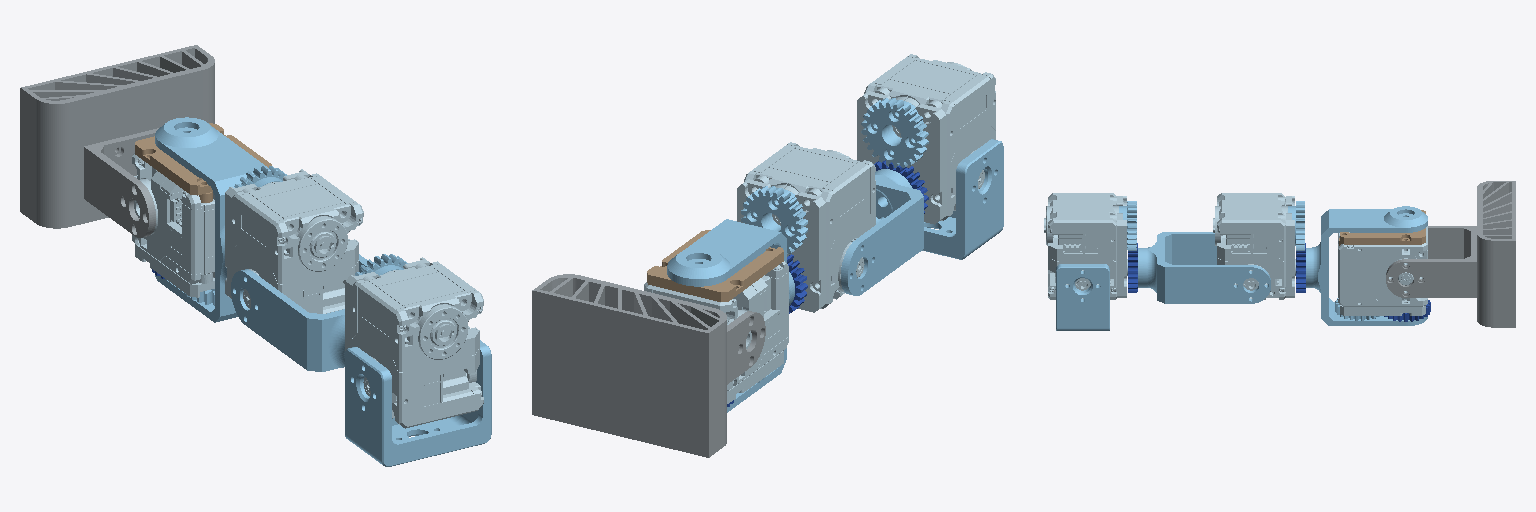
robot.urdf — right_arm_umi:
<?xml version="1.0" ?><robot name="right_arm_umi">  
  <link name="sho_pitch_link">    
    <visual>      
      <origin xyz="0 0 0" rpy="0 -0 0"/>      
      <geometry>        
        <mesh filename="package:///meshes/right_sho_pitch_link_visual.stl"/>        
      </geometry>      
      <material name="sho_pitch_link_material">        
        <color rgba="0.61568627450980395466 0.81176470588235294379 0.9294117647058824927 1.0"/>        
      </material>      
    </visual>    
    <collision>      
      <origin xyz="0 0 0" rpy="0 -0 0"/>      
      <geometry>        
        <mesh filename="package:///meshes/right_sho_pitch_link_collision.stl"/>        
      </geometry>      
    </collision>    
    <inertial>      
      <origin xyz="-6.4657779715960017825e-19 -2.2052288447398900024e-18 0.012913250798677600867" rpy="0 0 0"/>      
      <mass value="0.0085999999999999895972"/>      
      <inertia ixx="1.8365636406635799556e-06" ixy="2.7052466620977941747e-97" ixz="-6.0867229013657627499e-136" iyy="4.0110869076839109814e-06" iyz="-1.6935833339184735773e-44" izz="3.5160516450492455693e-06"/>      
    </inertial>    
  </link>  

  <link name="2xl430_gears">    
    <visual>      
      <origin xyz="0 0 0" rpy="0 -0 0"/>      
      <geometry>        
        <mesh filename="package:///meshes/right_2xl430_gears_visual.stl"/>        
      </geometry>      
      <material name="2xl430_gears_material">        
        <color rgba="0.75914767920569226067 0.85560384745670925444 0.90519468321360618823 1.0"/>        
      </material>      
    </visual>    
    <collision>      
      <origin xyz="0 0 0" rpy="0 -0 0"/>      
      <geometry>        
        <mesh filename="package:///meshes/right_2xl430_gears_collision.stl"/>        
      </geometry>      
    </collision>    
    <inertial>      
      <origin xyz="-0.01159290573797869435 -0.0024238553642522849517 -0.018551095523803726173" rpy="0 0 0"/>      
      <mass value="0.11800003674524907338"/>      
      <inertia ixx="2.7511021050424639241e-05" ixy="9.004390431513549981e-07" ixz="-2.3349710123960741496e-08" iyy="3.2796197843346213958e-05" iyz="-6.5715119654693364971e-07" izz="3.5775739835740998952e-05"/>      
    </inertial>    
  </link>  

  <link name="spur_1m_24t_drive">    
    <visual>      
      <origin xyz="0 0 0" rpy="0 -0 0"/>      
      <geometry>        
        <mesh filename="package:///meshes/right_spur_1m_24t_drive_visual.stl"/>        
      </geometry>      
      <material name="spur_1m_24t_drive_material">        
        <color rgba="0.61568627450980406568 0.81176470588235294379 0.92941176470588238168 1.0"/>        
      </material>      
    </visual>    
    <collision>      
      <origin xyz="0 0 0" rpy="0 -0 0"/>      
      <geometry>        
        <mesh filename="package:///meshes/right_spur_1m_24t_drive_collision.stl"/>        
      </geometry>      
    </collision>    
    <inertial>      
      <origin xyz="3.0329768727181610639e-15 -3.3891425476220191508e-16 0.0048096451474093039266" rpy="0 0 0"/>      
      <mass value="0.0032000000000000001533"/>      
      <inertia ixx="1.4097598887016958673e-07" ixy="1.5562823134806672036e-15" ixz="3.9554371954666049354e-37" iyy="1.4097598803635998845e-07" iyz="-1.3068306635892903836e-36" izz="2.4107776386988830202e-07"/>      
    </inertial>    
  </link>  

  <joint name="right_sho_yaw_drive" type="revolute">    
    <origin xyz="-0.024000000716138267243 -0.019000000152445337132 -0.019000000152448424939" rpy="1.5707963267949289765 -7.4062049324254792929e-14 1.9645226351351914911e-14"/>    
    <parent link="2xl430_gears"/>    
    <child link="spur_1m_24t_drive"/>    
    <axis xyz="0 0 1"/>    
    <limit effort="1" velocity="20" lower="-2.6179938779914944114" upper="2.6179938779914944114"/>    
    <joint_properties friction="0.0"/>    
  </joint>  

  <link name="spur_1m_24t_driven">    
    <visual>      
      <origin xyz="0 0 0" rpy="0 -0 0"/>      
      <geometry>        
        <mesh filename="package:///meshes/right_spur_1m_24t_driven_visual.stl"/>        
      </geometry>      
      <material name="spur_1m_24t_driven_material">        
        <color rgba="0.23137254901960788156 0.38039215686274502337 0.7058823529411765163 1.0"/>        
      </material>      
    </visual>    
    <collision>      
      <origin xyz="0 0 0" rpy="0 -0 0"/>      
      <geometry>        
        <mesh filename="package:///meshes/right_spur_1m_24t_driven_collision.stl"/>        
      </geometry>      
    </collision>    
    <inertial>      
      <origin xyz="-2.7696338792816901919e-18 -1.6888946739707558844e-15 -0.00097237500038396124102" rpy="0 0 0"/>      
      <mass value="0.0026999999999999997093"/>      
      <inertia ixx="1.2202334915684080498e-07" ixy="0" ixz="0" iyy="1.2202334915684067263e-07" iyz="-3.1611202962161965154e-37" izz="2.3180293204341257533e-07"/>      
    </inertial>    
  </link>  

  <link name="sho_yaw_link">    
    <visual>      
      <origin xyz="0 0 0" rpy="0 -0 0"/>      
      <geometry>        
        <mesh filename="package:///meshes/right_sho_yaw_link_visual.stl"/>        
      </geometry>      
      <material name="sho_yaw_link_material">        
        <color rgba="0.61568627450980384364 0.81176470588235294379 0.92941176470588238168 1.0"/>        
      </material>      
    </visual>    
    <collision>      
      <origin xyz="0 0 0" rpy="0 -0 0"/>      
      <geometry>        
        <mesh filename="package:///meshes/right_sho_yaw_link_collision.stl"/>        
      </geometry>      
    </collision>    
    <inertial>      
      <origin xyz="-1.1660583139255996671e-18 3.5695430205025619071e-18 -0.024649285094360089132" rpy="0 0 0"/>      
      <mass value="0.01450000000000000247"/>      
      <inertia ixx="9.2365904614004439553e-06" ixy="3.5862833440698297613e-13" ixz="3.9137616104661151467e-44" iyy="5.8163826335078774773e-06" iyz="-5.7710285861749289932e-36" izz="4.5074356741562122031e-06"/>      
    </inertial>    
  </link>  

  <link name="2xl430_gears_2">    
    <visual>      
      <origin xyz="0 0 0" rpy="0 -0 0"/>      
      <geometry>        
        <mesh filename="package:///meshes/right_2xl430_gears_2_visual.stl"/>        
      </geometry>      
      <material name="2xl430_gears_2_material">        
        <color rgba="0.75914767920569226067 0.85560384745670925444 0.90519468321360618823 1.0"/>        
      </material>      
    </visual>    
    <collision>      
      <origin xyz="0 0 0" rpy="0 -0 0"/>      
      <geometry>        
        <mesh filename="package:///meshes/right_2xl430_gears_2_collision.stl"/>        
      </geometry>      
    </collision>    
    <inertial>      
      <origin xyz="-0.011592905737984599349 -0.002423855364252071147 -0.018551095523805887638" rpy="0 0 0"/>      
      <mass value="0.11800003674524907338"/>      
      <inertia ixx="2.751102105042605548e-05" ixy="9.0043904315050627108e-07" ixz="-2.3349710123665758963e-08" iyy="3.2796197843347230398e-05" iyz="-6.5715119654724556959e-07" izz="3.5775739835742266114e-05"/>      
    </inertial>    
  </link>  

  <link name="spur_1m_24t_drive_2">    
    <visual>      
      <origin xyz="0 0 0" rpy="0 -0 0"/>      
      <geometry>        
        <mesh filename="package:///meshes/right_spur_1m_24t_drive_2_visual.stl"/>        
      </geometry>      
      <material name="spur_1m_24t_drive_2_material">        
        <color rgba="0.61568627450980406568 0.81176470588235294379 0.92941176470588238168 1.0"/>        
      </material>      
    </visual>    
    <collision>      
      <origin xyz="0 0 0" rpy="0 -0 0"/>      
      <geometry>        
        <mesh filename="package:///meshes/right_spur_1m_24t_drive_2_collision.stl"/>        
      </geometry>      
    </collision>    
    <inertial>      
      <origin xyz="3.02603797881425423e-15 -3.3891425476220191508e-16 0.0048096451474092995898" rpy="0 0 0"/>      
      <mass value="0.0032000000000000001533"/>      
      <inertia ixx="1.4097598887016958673e-07" ixy="1.5562823081573231774e-15" ixz="1.1756804446533630512e-37" iyy="1.4097598803635996198e-07" iyz="2.3035732543170599666e-36" izz="2.4107776386988830202e-07"/>      
    </inertial>    
  </link>  

  <joint name="right_elbow_yaw_drive" type="revolute">    
    <origin xyz="-0.024000000716147162905 -0.019000000152450874369 -0.019000000152450294971" rpy="1.5707963267949573982 3.0456550330441217593e-14 -3.9968028886506279166e-14"/>    
    <parent link="2xl430_gears_2"/>    
    <child link="spur_1m_24t_drive_2"/>    
    <axis xyz="0 0 1"/>    
    <limit effort="1" velocity="20" lower="-2.6179938779914944114" upper="2.6179938779914944114"/>    
    <joint_properties friction="0.0"/>    
  </joint>  

  <link name="spur_1m_24t_driven_2">    
    <visual>      
      <origin xyz="0 0 0" rpy="0 -0 0"/>      
      <geometry>        
        <mesh filename="package:///meshes/right_spur_1m_24t_driven_2_visual.stl"/>        
      </geometry>      
      <material name="spur_1m_24t_driven_2_material">        
        <color rgba="0.23137254901960788156 0.38039215686274502337 0.7058823529411765163 1.0"/>        
      </material>      
    </visual>    
    <collision>      
      <origin xyz="0 0 0" rpy="0 -0 0"/>      
      <geometry>        
        <mesh filename="package:///meshes/right_spur_1m_24t_driven_2_collision.stl"/>        
      </geometry>      
    </collision>    
    <inertial>      
      <origin xyz="6.998130726719240932e-19 -1.6888946739707574622e-15 -0.00097237500038395430213" rpy="0 0 0"/>      
      <mass value="0.0026999999999999997093"/>      
      <inertia ixx="1.2202334915684080498e-07" ixy="3.8503779869585968261e-37" ixz="-5.0252529353177581452e-67" iyy="1.2202334915684067263e-07" iyz="-1.5292377512497487578e-36" izz="2.3180293204341257533e-07"/>      
    </inertial>    
  </link>  

  <link name="elb_yaw_link">    
    <visual>      
      <origin xyz="0 0 0" rpy="0 -0 0"/>      
      <geometry>        
        <mesh filename="package:///meshes/right_elb_yaw_link_visual.stl"/>        
      </geometry>      
      <material name="elb_yaw_link_material">        
        <color rgba="0.61568627450980395466 0.81176470588235294379 0.92941176470588227065 1.0"/>        
      </material>      
    </visual>    
    <collision>      
      <origin xyz="0 0 0" rpy="0 -0 0"/>      
      <geometry>        
        <mesh filename="package:///meshes/right_elb_yaw_link_collision.stl"/>        
      </geometry>      
    </collision>    
    <inertial>      
      <origin xyz="5.3127688027629623281e-08 0.0019833638641961626875 -0.023416643551549952418" rpy="0 0 0"/>      
      <mass value="0.017500000000000001665"/>      
      <inertia ixx="1.4134344903109199776e-05" ixy="1.6945783921985164522e-12" ixz="-1.1286398721840438372e-11" iyy="6.6435900776211340404e-06" iyz="1.0545227077253059697e-06" izz="8.9925290757999010654e-06"/>      
    </inertial>    
  </link>  

  <link name="spur_1m_24t_driven_3">    
    <visual>      
      <origin xyz="0 0 0" rpy="0 -0 0"/>      
      <geometry>        
        <mesh filename="package:///meshes/right_spur_1m_24t_driven_3_visual.stl"/>        
      </geometry>      
      <material name="spur_1m_24t_driven_3_material">        
        <color rgba="0.23137254901960788156 0.38039215686274502337 0.7058823529411765163 1.0"/>        
      </material>      
    </visual>    
    <collision>      
      <origin xyz="0 0 0" rpy="0 -0 0"/>      
      <geometry>        
        <mesh filename="package:///meshes/right_spur_1m_24t_driven_3_collision.stl"/>        
      </geometry>      
    </collision>    
    <inertial>      
      <origin xyz="2.4985941736347222548e-17 -1.6888946739707539123e-15 -0.0025723750003839584988" rpy="0 0 0"/>      
      <mass value="0.0026999999999999997093"/>      
      <inertia ixx="1.2202334915684080498e-07" ixy="1.2024235126300533086e-36" ixz="-1.9251889934793005011e-37" iyy="1.2202334915684067263e-07" iyz="-6.5691309546560350094e-67" izz="2.3180293204341257533e-07"/>      
    </inertial>    
  </link>  

  <link name="2xl430_gears_3">    
    <visual>      
      <origin xyz="0 0 0" rpy="0 -0 0"/>      
      <geometry>        
        <mesh filename="package:///meshes/right_2xl430_gears_3_visual.stl"/>        
      </geometry>      
      <material name="2xl430_gears_3_material">        
        <color rgba="0.75914767920569226067 0.85560384745670925444 0.90519468321360618823 1.0"/>        
      </material>      
    </visual>    
    <collision>      
      <origin xyz="0 0 0" rpy="0 -0 0"/>      
      <geometry>        
        <mesh filename="package:///meshes/right_2xl430_gears_3_collision.stl"/>        
      </geometry>      
    </collision>    
    <inertial>      
      <origin xyz="0.00044890447620015046237 0.011592905379911784894 -0.024576144788197196167" rpy="0 0 0"/>      
      <mass value="0.11800003674524907338"/>      
      <inertia ixx="3.5775739835742767557e-05" ixy="2.3349710123599005488e-08" ixz="6.5715119654677451339e-07" iyy="2.7511021050425879297e-05" iyz="9.0043904315183399523e-07" izz="3.2796197843346695073e-05"/>      
    </inertial>    
  </link>  

  <link name="spur_1m_24t_drive_3">    
    <visual>      
      <origin xyz="0 0 0" rpy="0 -0 0"/>      
      <geometry>        
        <mesh filename="package:///meshes/right_spur_1m_24t_drive_3_visual.stl"/>        
      </geometry>      
      <material name="spur_1m_24t_drive_3_material">        
        <color rgba="0.61568627450980406568 0.81176470588235294379 0.92941176470588238168 1.0"/>        
      </material>      
    </visual>    
    <collision>      
      <origin xyz="0 0 0" rpy="0 -0 0"/>      
      <geometry>        
        <mesh filename="package:///meshes/right_spur_1m_24t_drive_3_collision.stl"/>        
      </geometry>      
    </collision>    
    <inertial>      
      <origin xyz="3.0329768727181610639e-15 -3.3891425478805135853e-16 0.0048096451474093039266" rpy="0 0 0"/>      
      <mass value="0.0032000000000000001533"/>      
      <inertia ixx="1.409759888701696132e-07" ixy="1.5562823155235952782e-15" ixz="5.3447756147290179682e-37" iyy="1.4097598803636004139e-07" iyz="-7.82962044161536043e-37" izz="2.4107776386988830202e-07"/>      
    </inertial>    
  </link>  

  <joint name="right_wrist_pitch_drive" type="revolute">    
    <origin xyz="-1.5244312511681577095e-10 0.024000000358071760242 -0.0080000000000008727324" rpy="1.2483159056318501391e-14 7.3485321852726251993e-14 -1.5707963267948599206"/>    
    <parent link="2xl430_gears_3"/>    
    <child link="spur_1m_24t_drive_3"/>    
    <axis xyz="0 0 1"/>    
    <limit effort="1" velocity="20" lower="-1.3962634015954635824" upper="1.9198621771937625091"/>    
    <joint_properties friction="0.0"/>    
  </joint>  

  <link name="hand">    
    <visual>      
      <origin xyz="0 0 0" rpy="0 -0 0"/>      
      <geometry>        
        <mesh filename="package:///meshes/right_hand_visual.stl"/>        
      </geometry>      
      <material name="hand_material">        
        <color rgba="0.64149913129808899814 0.67624720774385715938 0.69709605361131798951 1.0"/>        
      </material>      
    </visual>    
    <collision>      
      <origin xyz="0 0 0" rpy="0 -0 0"/>      
      <geometry>        
        <mesh filename="package:///meshes/right_hand_collision.stl"/>        
      </geometry>      
    </collision>    
    <inertial>      
      <origin xyz="0.0037078693754091780581 -0.042127339671143418376 -0.019509671728381139388" rpy="0 0 0"/>      
      <mass value="0.039499999999999979572"/>      
      <inertia ixx="2.463550204721900056e-05" ixy="6.2323015740443222902e-07" ixz="1.4391447736752212052e-08" iyy="2.54752072219337203e-05" iyz="-4.0870433587618370763e-08" izz="1.3466679249845188709e-05"/>      
    </inertial>    
  </link>  

  <joint name="right_wrist_roll" type="revolute">    
    <origin xyz="0.019000000000002754269 -3.5806785314562716849e-10 -0.02700000015244990656" rpy="-1.9648186021258132771e-29 1.570796326794851927 0"/>    
    <parent link="2xl430_gears_3"/>    
    <child link="hand"/>    
    <axis xyz="0 0 1"/>    
    <limit effort="1" velocity="20" lower="-1.3962634015954635824" upper="1.9198621771937625091"/>    
    <joint_properties friction="0.0"/>    
  </joint>  

  <link name="wrist_bearing_plate">    
    <visual>      
      <origin xyz="0 0 0" rpy="0 -0 0"/>      
      <geometry>        
        <mesh filename="package:///meshes/right_wrist_bearing_plate_visual.stl"/>        
      </geometry>      
      <material name="wrist_bearing_plate_material">        
        <color rgba="0.71932243125689054875 0.63128434304969727187 0.52422389360984933404 1.0"/>        
      </material>      
    </visual>    
    <collision>      
      <origin xyz="0 0 0" rpy="0 -0 0"/>      
      <geometry>        
        <mesh filename="package:///meshes/right_wrist_bearing_plate_collision.stl"/>        
      </geometry>      
    </collision>    
    <inertial>      
      <origin xyz="-0.007583558312149987074 -0.015499999999999977338 -0.0018386323705903283732" rpy="0 0 0"/>      
      <mass value="0.0049000367468305557062"/>      
      <inertia ixx="4.9707430109150118544e-07" ixy="8.4884857117213009255e-23" ixz="1.8100904820814061718e-08" iyy="7.1268523603538563647e-07" iyz="4.7142878042649513411e-24" izz="1.1919657811600109234e-06"/>      
    </inertial>    
  </link>  

  <joint name="right_wrist_pitch_fixed" type="fixed">    
    <origin xyz="0.015500000000003963732 4.5519144009631418157e-15 -0.04500000000000373146" rpy="-3.0531133177156822825e-15 1.2051470932306205513e-13 -1.570796326794896558"/>    
    <parent link="2xl430_gears_3"/>    
    <child link="wrist_bearing_plate"/>    
    <axis xyz="0 0 1"/>    
    <limit effort="1" velocity="20"/>    
    <joint_properties friction="0.0"/>    
  </joint>  

  <joint name="right_wrist_pitch_driven" type="revolute">    
    <origin xyz="2.7755575615628913511e-17 3.1554436208840472216e-30 -0.0015999999999999972577" rpy="-3.8285686988021856593e-16 -1.2621774483536197294e-29 1.570796326794896558"/>    
    <parent link="spur_1m_24t_driven_3"/>    
    <child link="2xl430_gears_3"/>    
    <axis xyz="0 0 1"/>    
    <limit effort="1" velocity="20" lower="-1.9198621771937625091" upper="1.3962634015954635824"/>    
    <joint_properties friction="0.0"/>    
  </joint>  

  <joint name="right_wrist_roll_fixed" type="fixed">    
    <origin xyz="3.1554436208840472216e-30 -0.025299999999999999573 -0.051999999999999976796" rpy="1.570796326794896558 1.570796326794896558 0"/>    
    <parent link="elb_yaw_link"/>    
    <child link="spur_1m_24t_driven_3"/>    
    <axis xyz="0 0 1"/>    
    <limit effort="1" velocity="20"/>    
    <joint_properties friction="0.0"/>    
  </joint>  

  <joint name="right_elbow_yaw_fixed" type="fixed">    
    <origin xyz="3.4694469519536141888e-18 0 0.0016000000000000180744" rpy="3.141592653589793116 5.5511151240344703462e-17 -1.57079632679489678"/>    
    <parent link="spur_1m_24t_driven_2"/>    
    <child link="elb_yaw_link"/>    
    <axis xyz="0 0 1"/>    
    <limit effort="1" velocity="20"/>    
    <joint_properties friction="0.0"/>    
  </joint>  

  <joint name="right_elbow_yaw_driven" type="revolute">    
    <origin xyz="-3.5807115952857238028e-10 -0.027000000152453032531 -0.01900000000000281325" rpy="1.5707963267949576203 3.0519690799675378401e-14 -4.0239863453830675462e-14"/>    
    <parent link="2xl430_gears_2"/>    
    <child link="spur_1m_24t_driven_2"/>    
    <axis xyz="0 0 1"/>    
    <limit effort="1" velocity="20" lower="-2.6179938779914944114" upper="2.6179938779914944114"/>    
    <joint_properties friction="0.0"/>    
  </joint>  

  <joint name="right_elbow_roll" type="revolute">    
    <origin xyz="0 -0.018999999999999999528 -0.059000000000000024647" rpy="1.5707963267948952257 -4.3465231414242792334e-14 -2.6978419498660684154e-14"/>    
    <parent link="sho_yaw_link"/>    
    <child link="2xl430_gears_2"/>    
    <axis xyz="0 0 1"/>    
    <limit effort="1" velocity="20" lower="-1.9198621771937625091" upper="2.4434609527920612138"/>    
    <joint_properties friction="0.0"/>    
  </joint>  

  <joint name="right_sho_yaw_fixed" type="fixed">    
    <origin xyz="0 3.9443045261050590271e-31 0.0015999999999999972577" rpy="3.141592653589793116 -5.0487097934144755546e-29 -1.8301573001127473886e-28"/>    
    <parent link="spur_1m_24t_driven"/>    
    <child link="sho_yaw_link"/>    
    <axis xyz="0 0 1"/>    
    <limit effort="1" velocity="20"/>    
    <joint_properties friction="0.0"/>    
  </joint>  

  <joint name="right_sho_yaw_driven" type="revolute">    
    <origin xyz="-3.5806816886529979627e-10 -0.027000000152446666096 -0.019000000000003354483" rpy="1.5707963267949260899 -2.2055090607973039157e-14 7.6050277186033683693e-15"/>    
    <parent link="2xl430_gears"/>    
    <child link="spur_1m_24t_driven"/>    
    <axis xyz="0 0 1"/>    
    <limit effort="1" velocity="20" lower="-2.6179938779914944114" upper="2.6179938779914944114"/>    
    <joint_properties friction="0.0"/>    
  </joint>  

  <joint name="right_sho_roll" type="revolute">    
    <origin xyz="-0.018999999999999999528 9.3241386833306442318e-18 0.027000000000000006634" rpy="3.141592653589793116 1.5707963267948952257 0"/>    
    <parent link="sho_pitch_link"/>    
    <child link="2xl430_gears"/>    
    <axis xyz="0 0 1"/>    
    <limit effort="1" velocity="20" lower="-1.570796326794896558" upper="0.34906585039886589561"/>    
    <joint_properties friction="0.0"/>    
  </joint>  


</robot>

--- What the picture shows (computed from the rendered views, not written in the file) ---
Views: 3 orthographic renders of the robot side by side, from view 1: azimuth 30°, elevation 25°; view 2: azimuth 150°, elevation 25°; view 3: azimuth 270°, elevation 25°.
Robot: right_arm_umi — 14 links, 13 joints (9 revolute, 4 fixed); root link sho_pitch_link; default pose: every joint at zero.
Visible links, largest first — view 1: hand, 2xl430_gears, 2xl430_gears_2, sho_pitch_link, 2xl430_gears_3, elb_yaw_link, sho_yaw_link, wrist_bearing_plate, spur_1m_24t_drive, spur_1m_24t_drive_2; view 2: hand, 2xl430_gears_2, 2xl430_gears, sho_yaw_link, sho_pitch_link, elb_yaw_link, 2xl430_gears_3, spur_1m_24t_drive, wrist_bearing_plate, spur_1m_24t_drive_2, spur_1m_24t_driven_2, spur_1m_24t_driven; view 3: hand, sho_yaw_link, 2xl430_gears_2, 2xl430_gears, 2xl430_gears_3, elb_yaw_link, sho_pitch_link, wrist_bearing_plate, spur_1m_24t_drive, spur_1m_24t_drive_2.
Link boxes in pixels (box(x1,y1,x2,y2)): hand: box(20, 45, 214, 237); 2xl430_gears: box(345, 257, 483, 428); 2xl430_gears_2: box(225, 169, 363, 313); sho_pitch_link: box(345, 340, 491, 466); 2xl430_gears_3: box(132, 153, 214, 297); elb_yaw_link: box(155, 117, 267, 322); sho_yaw_link: box(231, 254, 367, 371); wrist_bearing_plate: box(135, 123, 271, 202); spur_1m_24t_drive: box(355, 254, 407, 275); spur_1m_24t_drive_2: box(234, 166, 286, 187); hand: box(532, 274, 765, 457); 2xl430_gears_2: box(737, 142, 875, 312); 2xl430_gears: box(857, 54, 995, 224); sho_yaw_link: box(841, 169, 923, 295); sho_pitch_link: box(922, 139, 1003, 259); elb_yaw_link: box(667, 219, 794, 412); 2xl430_gears_3: box(644, 261, 788, 403); spur_1m_24t_drive: box(861, 98, 928, 167); wrist_bearing_plate: box(647, 230, 783, 301); spur_1m_24t_drive_2: box(741, 186, 807, 253); spur_1m_24t_driven_2: box(787, 254, 807, 313); spur_1m_24t_driven: box(874, 160, 928, 213); hand: box(1386, 181, 1515, 327); sho_yaw_link: box(1138, 232, 1270, 303); 2xl430_gears_2: box(1213, 193, 1295, 299); 2xl430_gears: box(1044, 193, 1127, 299); 2xl430_gears_3: box(1338, 226, 1427, 315); elb_yaw_link: box(1306, 206, 1427, 325); sho_pitch_link: box(1056, 264, 1109, 330); wrist_bearing_plate: box(1339, 210, 1425, 245); spur_1m_24t_drive: box(1119, 201, 1136, 250); spur_1m_24t_drive_2: box(1288, 201, 1304, 250).
Bounding box of the posed robot: 0.074 × 0.2452 × 0.0652 m (x, y, z).
14 mesh visuals loaded from 14 distinct referenced files (14 binary STL).
